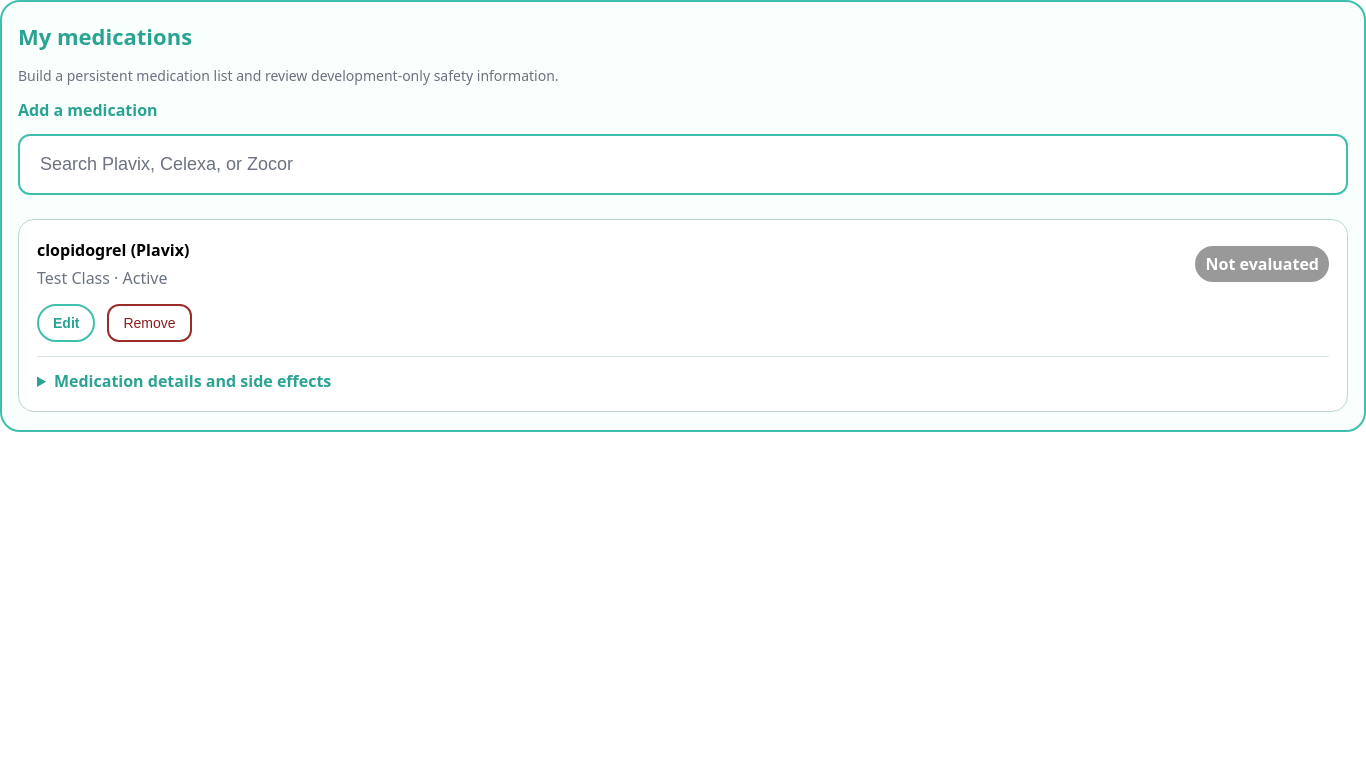
it: MedicationList › edits status and notes and reloads persisted state
Click the button "Edit". click: (66, 323)
box: [37,304,96,342]
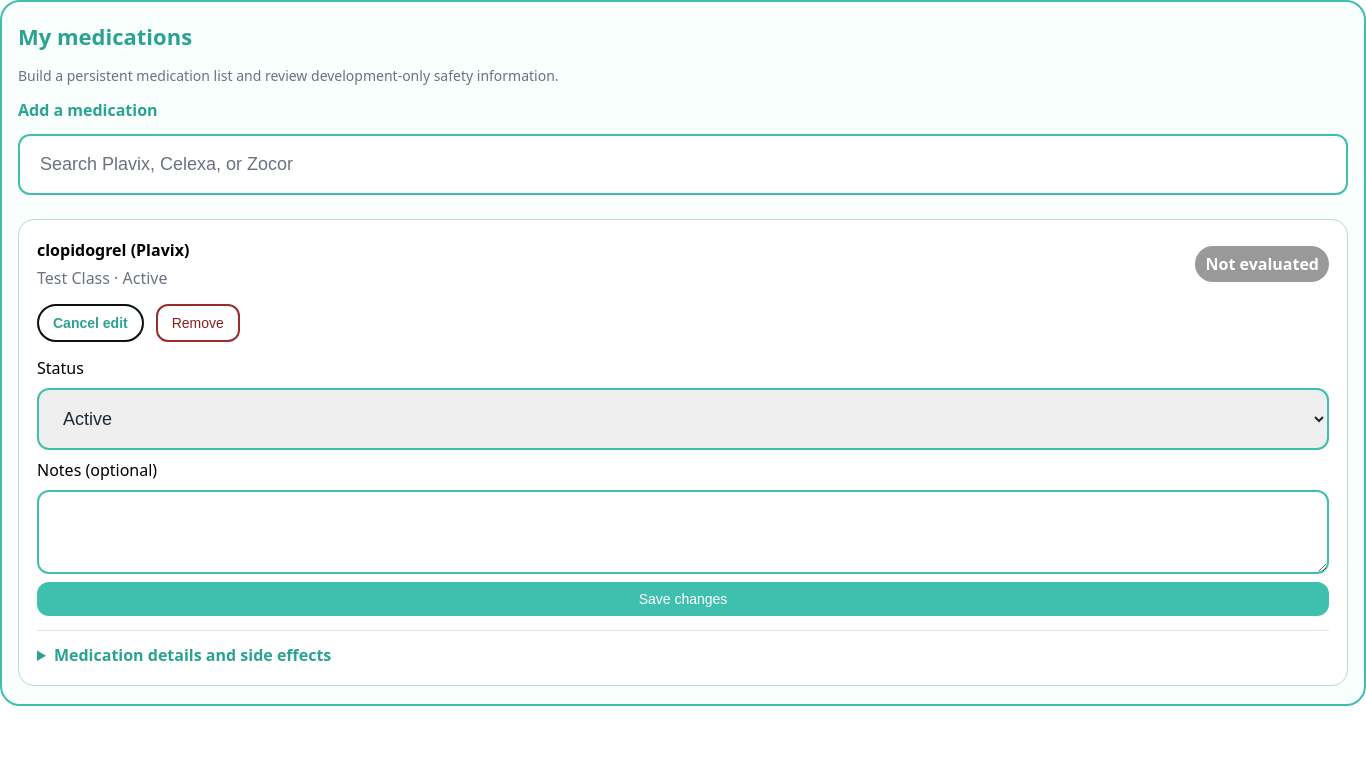
Select "Past" in the dropdown labelled "Status". click: (683, 419)
box: [37,388,1329,450]
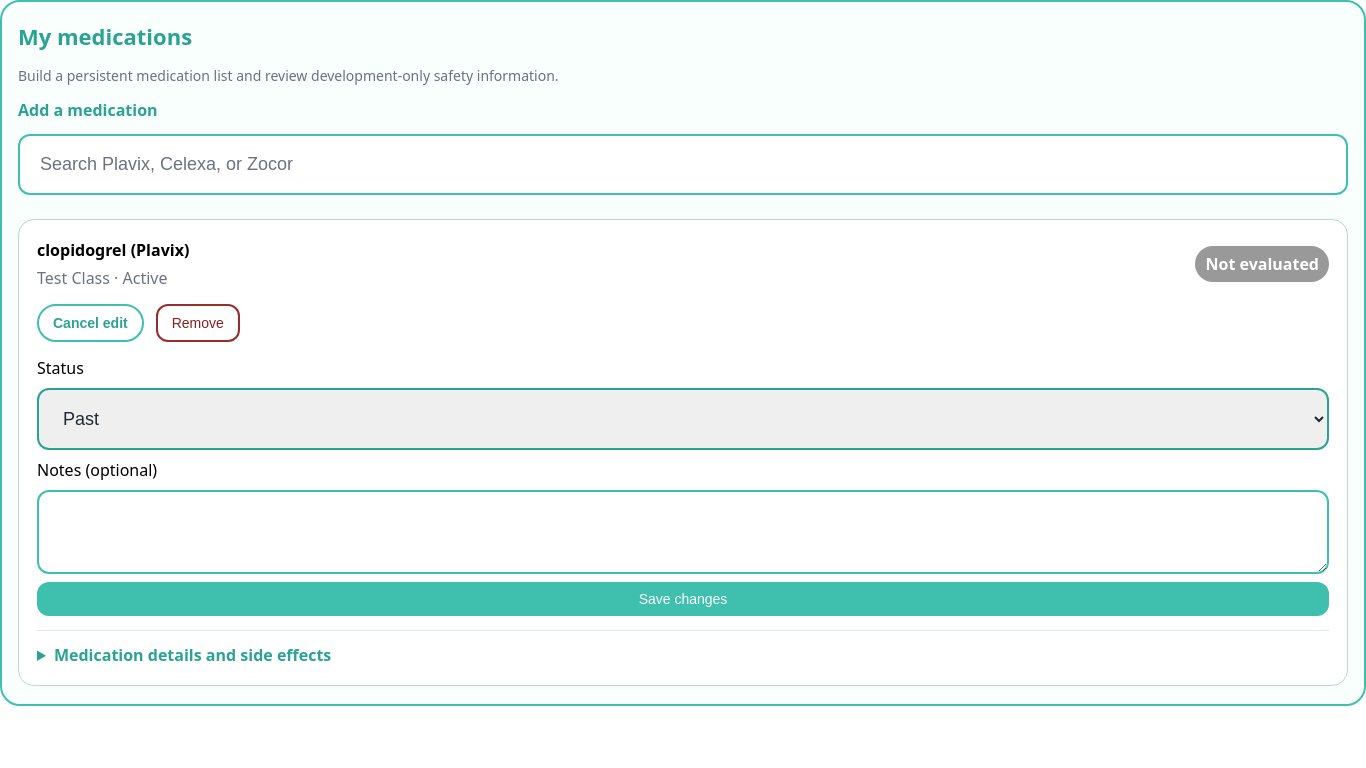
Type "Reviewed" into the text box labelled "Notes (optional)". click: (683, 532)
box: [37,490,1329,574]
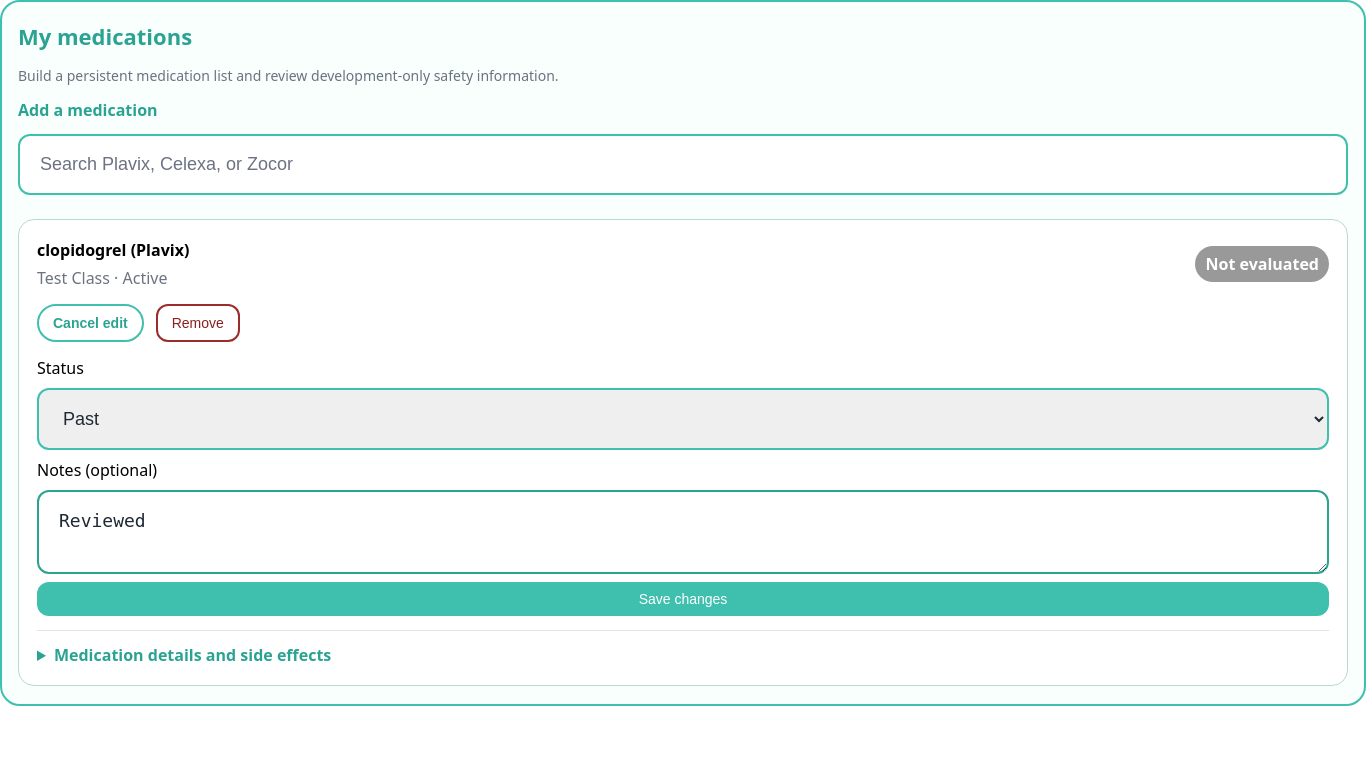
Click the button "Save changes". click: (683, 599)
box: [37,582,1329,616]
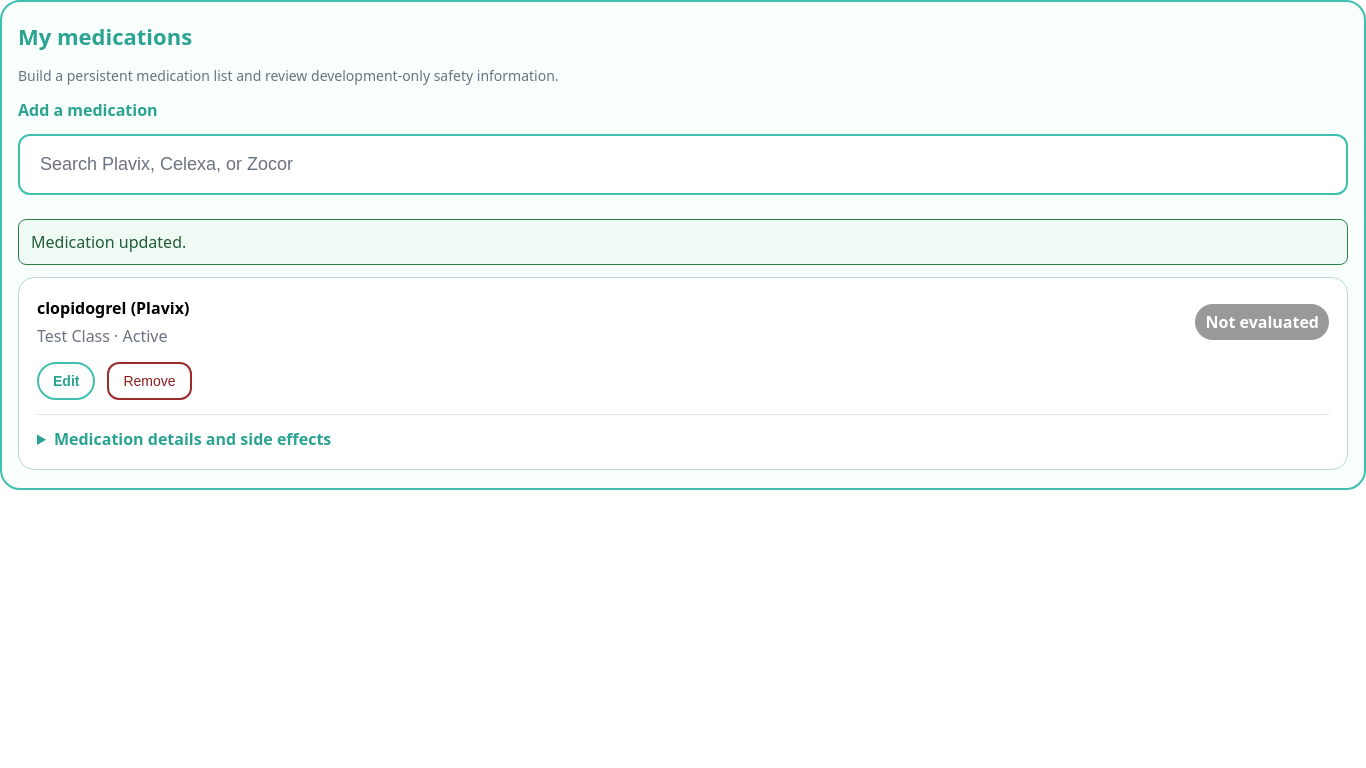
Result: the text "Medication updated." is shown at [18,219,1348,265]
